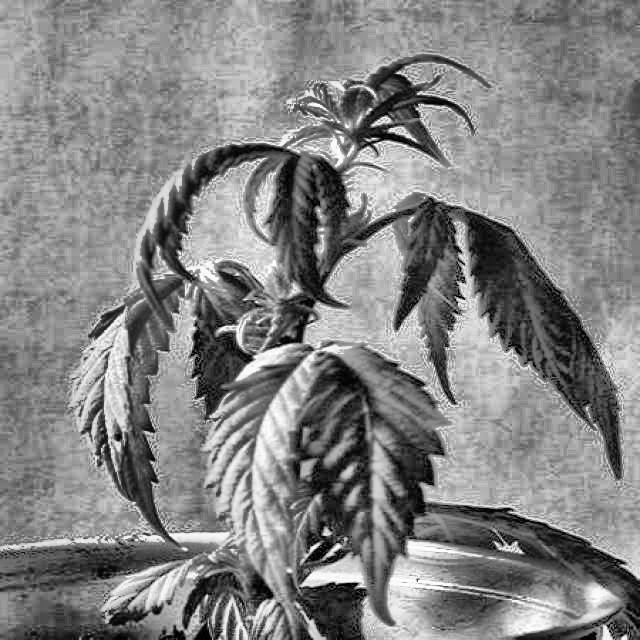plants: (36, 128, 624, 639)
